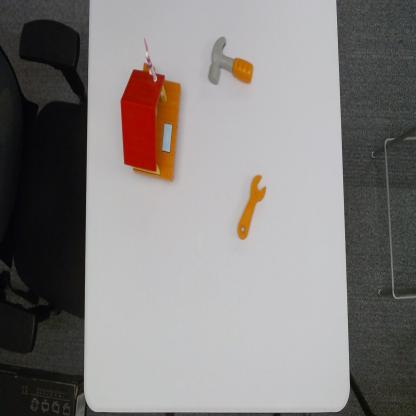Hammer: (208, 35, 255, 86)
House: (119, 35, 183, 184)
Screwdriver: (238, 174, 268, 244)
